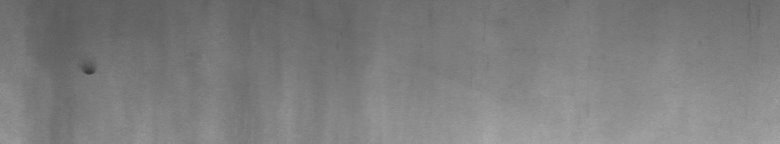fi: (80, 66, 97, 83)
